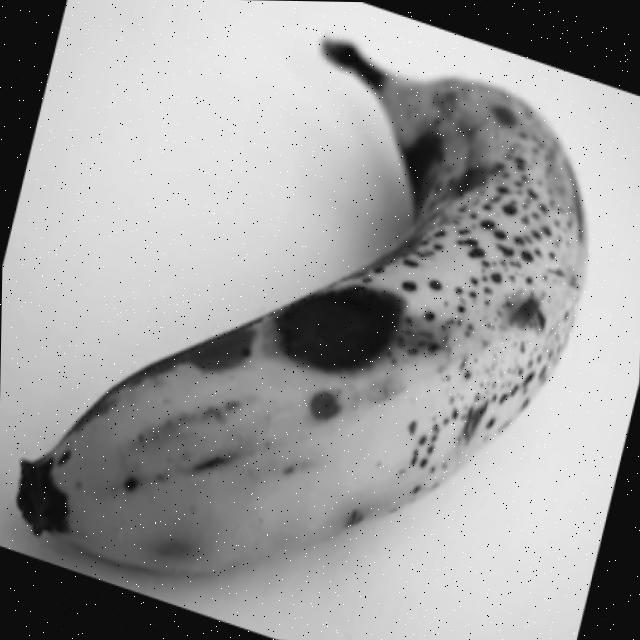overripe: (9, 27, 596, 588)
